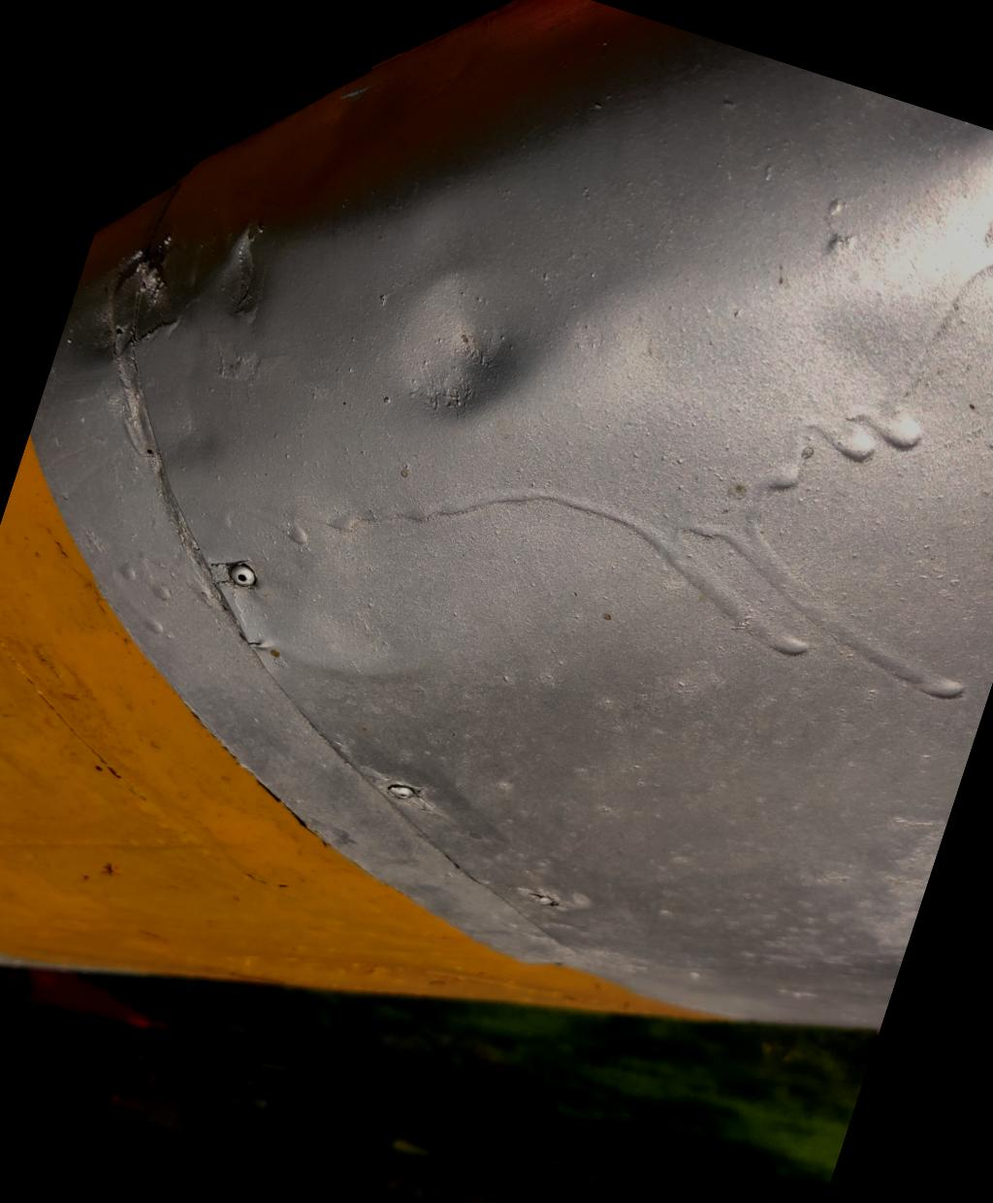dent: (309, 179, 620, 515), (158, 180, 326, 373)
